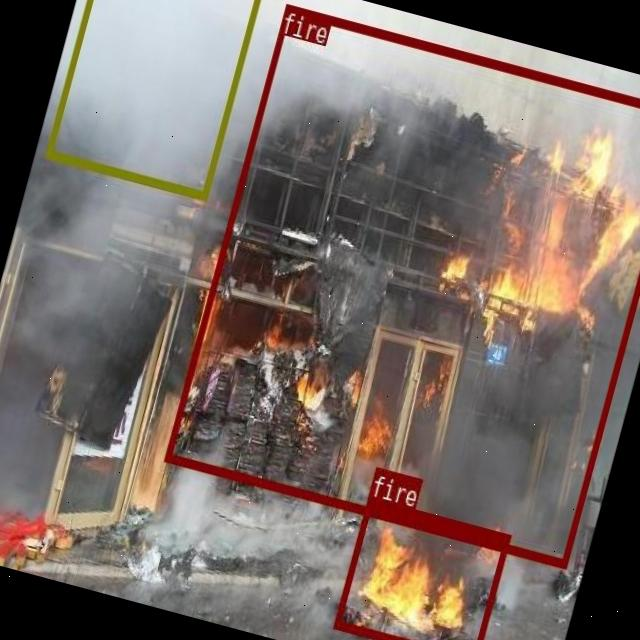fire: (163, 3, 640, 566), (332, 495, 510, 640)
smoke: (44, 0, 264, 198)
